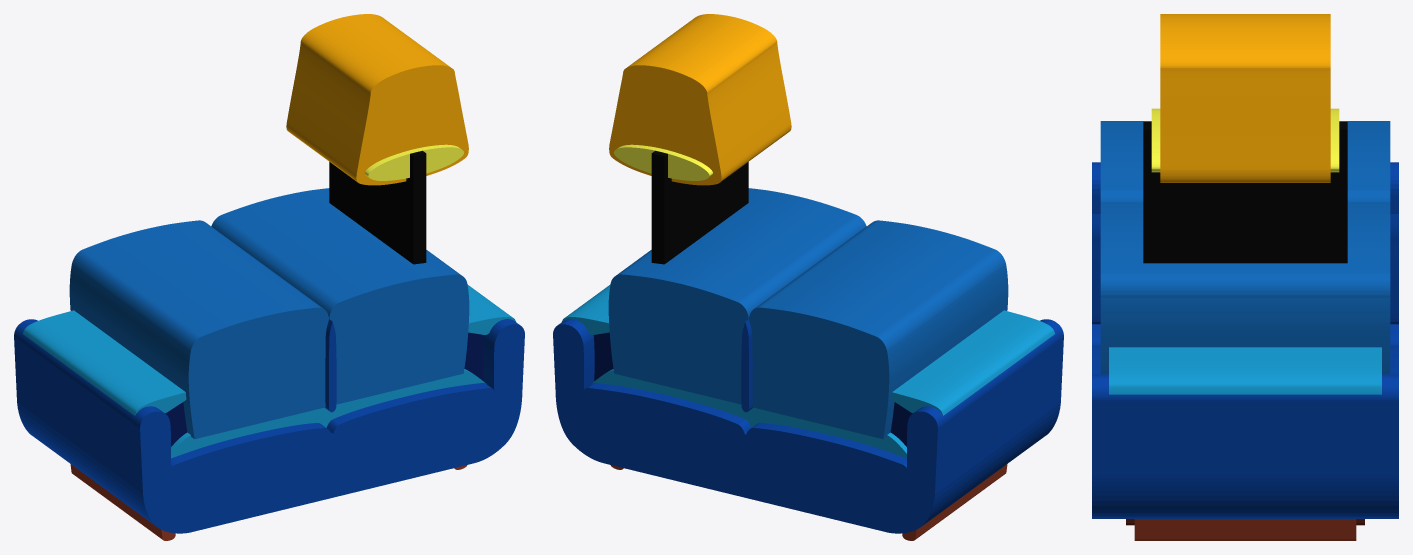
3 views of the same model, side by side, from view 1: azimuth 30°, elevation 25°; view 2: azimuth 150°, elevation 25°; view 3: azimuth 270°, elevation 25° (orthographic). The views are drawn at different scales.
Parts seen in each view (by area): view 1: U+1F6CB_layer07_obj00, U+1F6CB_layer08_obj01, U+1F6CB_layer00_obj00, U+1F6CB_layer06_obj00, U+1F6CB_layer02_obj00, U+1F6CB_layer06_obj01, U+1F6CB_layer01_obj00, U+1F6CB_layer06_obj02, U+1F6CB_layer08_obj00, U+1F6CB_layer03_obj01, U+1F6CB_layer05_obj00; view 2: U+1F6CB_layer07_obj00, U+1F6CB_layer08_obj01, U+1F6CB_layer00_obj00, U+1F6CB_layer06_obj00, U+1F6CB_layer02_obj00, U+1F6CB_layer06_obj01, U+1F6CB_layer01_obj00, U+1F6CB_layer06_obj02, U+1F6CB_layer08_obj00, U+1F6CB_layer03_obj01, U+1F6CB_layer05_obj00; view 3: U+1F6CB_layer08_obj01, U+1F6CB_layer07_obj00, U+1F6CB_layer00_obj00, U+1F6CB_layer02_obj00, U+1F6CB_layer06_obj02, U+1F6CB_layer03_obj00, U+1F6CB_layer08_obj00, U+1F6CB_layer01_obj00.
Part boxes in pixels (left/top/right/bottom): U+1F6CB_layer07_obj00: left=69, top=188, right=469, bottom=438; U+1F6CB_layer08_obj01: left=14, top=319, right=524, bottom=533; U+1F6CB_layer00_obj00: left=286, top=14, right=468, bottom=185; U+1F6CB_layer06_obj00: left=23, top=310, right=186, bottom=415; U+1F6CB_layer02_obj00: left=329, top=150, right=426, bottom=264; U+1F6CB_layer06_obj01: left=171, top=369, right=485, bottom=458; U+1F6CB_layer01_obj00: left=365, top=144, right=463, bottom=180; U+1F6CB_layer06_obj02: left=467, top=285, right=515, bottom=334; U+1F6CB_layer08_obj00: left=325, top=319, right=336, bottom=412; U+1F6CB_layer03_obj01: left=70, top=464, right=175, bottom=540; U+1F6CB_layer05_obj00: left=464, top=332, right=484, bottom=380; U+1F6CB_layer07_obj00: left=608, top=188, right=1008, bottom=438; U+1F6CB_layer08_obj01: left=553, top=319, right=1063, bottom=533; U+1F6CB_layer00_obj00: left=609, top=14, right=791, bottom=185; U+1F6CB_layer06_obj00: left=891, top=310, right=1054, bottom=415; U+1F6CB_layer02_obj00: left=651, top=150, right=748, bottom=264; U+1F6CB_layer06_obj01: left=592, top=369, right=906, bottom=458; U+1F6CB_layer01_obj00: left=614, top=144, right=712, bottom=180; U+1F6CB_layer06_obj02: left=562, top=285, right=610, bottom=334; U+1F6CB_layer08_obj00: left=741, top=319, right=752, bottom=412; U+1F6CB_layer03_obj01: left=902, top=464, right=1007, bottom=540; U+1F6CB_layer05_obj00: left=593, top=332, right=613, bottom=380; U+1F6CB_layer08_obj01: left=1092, top=162, right=1398, bottom=518; U+1F6CB_layer07_obj00: left=1100, top=121, right=1390, bottom=374; U+1F6CB_layer00_obj00: left=1160, top=14, right=1330, bottom=182; U+1F6CB_layer02_obj00: left=1143, top=122, right=1347, bottom=263; U+1F6CB_layer06_obj02: left=1109, top=347, right=1381, bottom=394; U+1F6CB_layer03_obj00: left=1134, top=519, right=1356, bottom=540; U+1F6CB_layer08_obj00: left=1092, top=214, right=1398, bottom=324; U+1F6CB_layer01_obj00: left=1151, top=108, right=1339, bottom=172.
Bounding box in the file's own units: 0.3175 × 0.3172 × 0.18.
